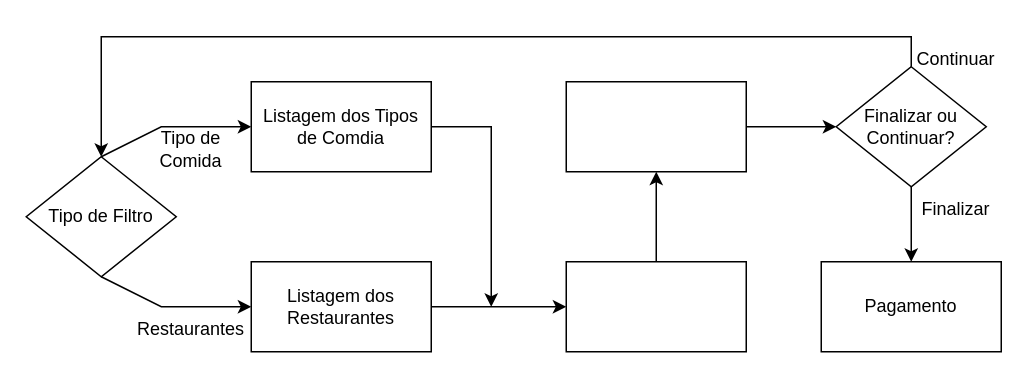
Image size: 1028x378. Some labels were removed from this diagram. The shapes that lost their labels are listed below. From the top down, each one's box as (x1, y1, x2, y2) in pixels, then its label:
(565, 80, 746, 172): Adiciona ao carrinho a quantidade selecionada
(565, 260, 746, 352): Lista as comidas do tipo selecionado
